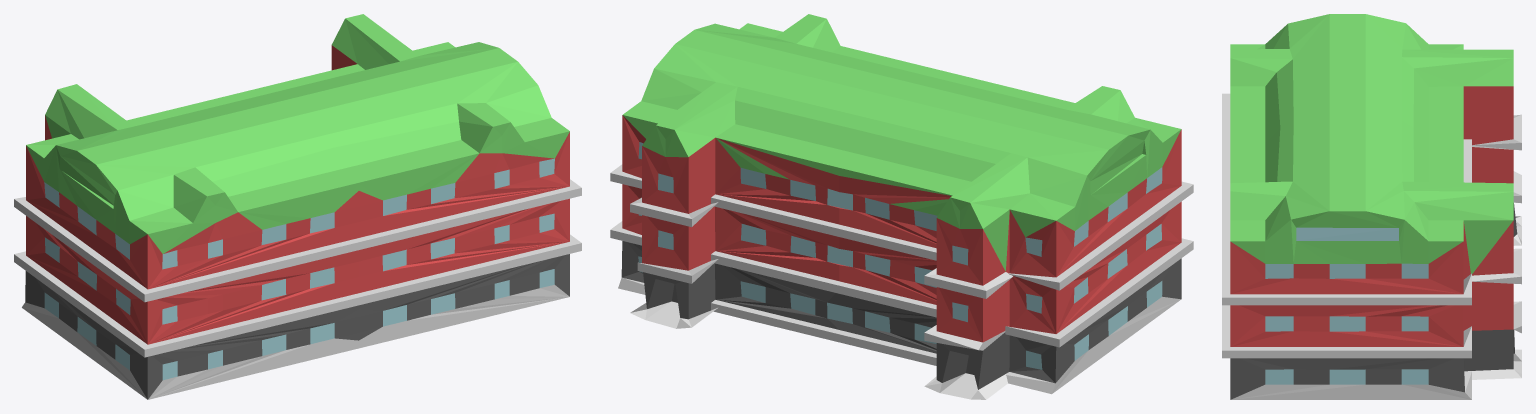
The model's file is MorHouse5_LOD3.fbx.
The picture shows the model from 3 angles, left to right: view 1: azimuth 30°, elevation 25°; view 2: azimuth 150°, elevation 25°; view 3: azimuth 270°, elevation 25°; orthographic projection. The views are drawn at different scales.
Visible parts, largest first — view 1: Cube.001; view 2: Cube.001; view 3: Cube.001.
Part boxes in pixels (box(x1,y1,x2,y2)): Cube.001: box(14, 14, 581, 399); Cube.001: box(610, 14, 1193, 399); Cube.001: box(1222, 14, 1521, 399).
Size of the model in its own units: 5800 by 2500 by 3600.
